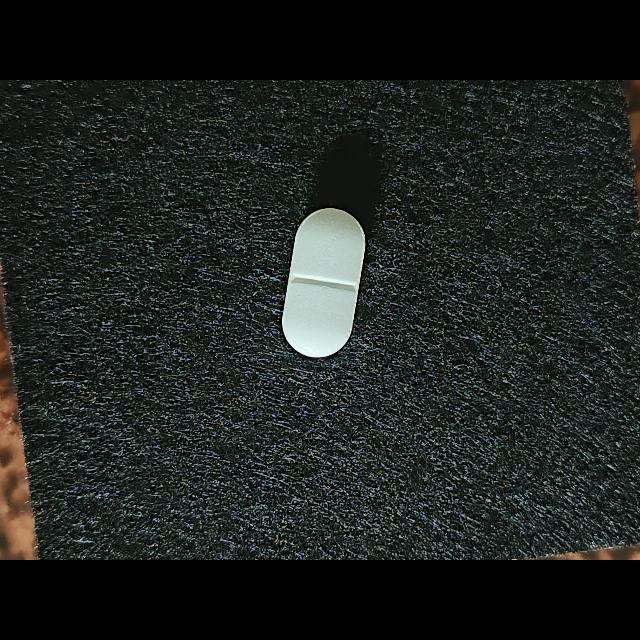Intact Pill: (282, 208, 366, 358)
